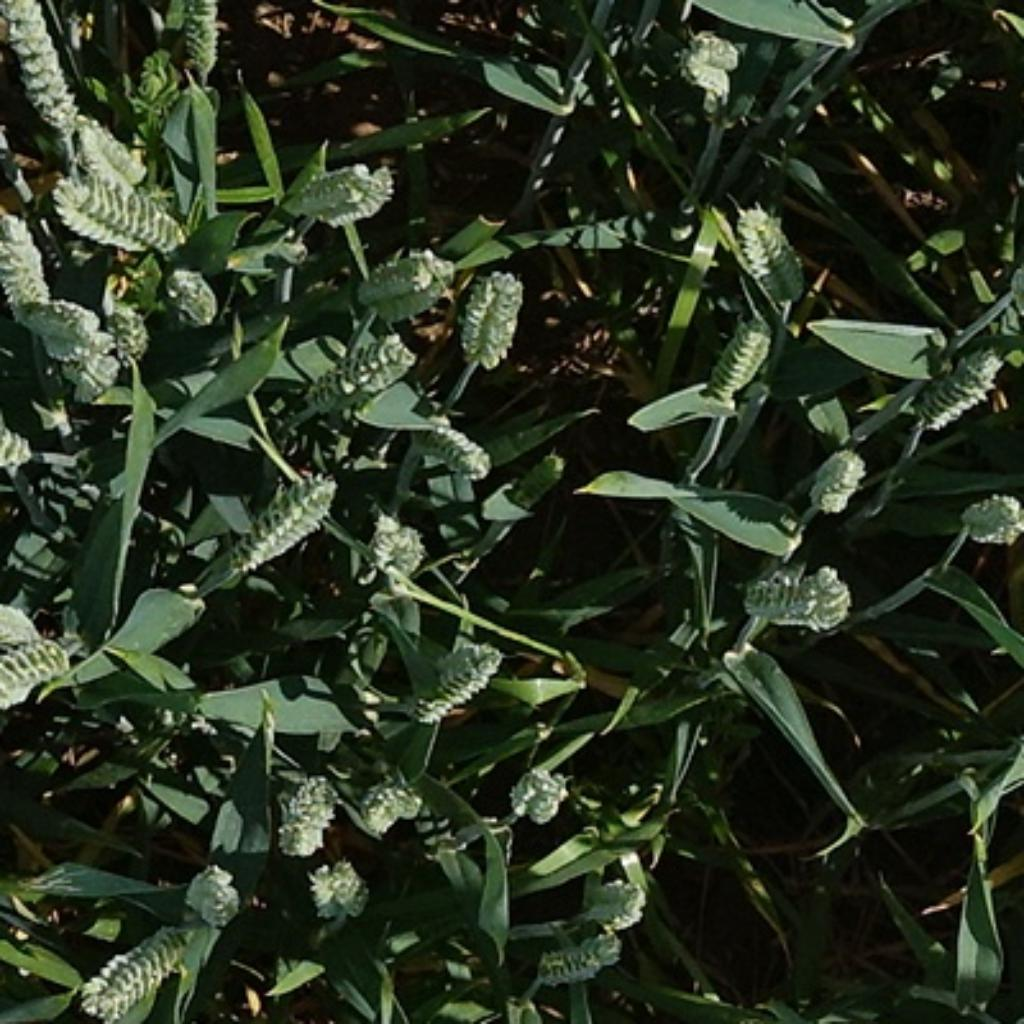0-0: (230, 463, 343, 573), (79, 918, 199, 1021), (45, 179, 191, 257), (2, 2, 87, 122), (296, 323, 407, 413), (348, 765, 476, 842), (905, 343, 1011, 430), (409, 624, 509, 716), (448, 258, 529, 368), (32, 293, 112, 395), (733, 566, 852, 629), (294, 156, 397, 227), (361, 243, 453, 320), (401, 404, 496, 478), (2, 202, 56, 332), (61, 112, 151, 186), (726, 201, 801, 287), (708, 315, 783, 399), (280, 768, 343, 860), (527, 933, 629, 985), (0, 642, 70, 710), (805, 443, 872, 514), (302, 855, 376, 919), (683, 27, 747, 97), (363, 508, 428, 576), (512, 762, 578, 826), (101, 298, 157, 371), (182, 864, 244, 929), (586, 873, 652, 931), (968, 488, 1024, 550), (166, 266, 220, 325), (186, 2, 227, 76), (514, 450, 568, 506), (1016, 652, 1024, 737)
